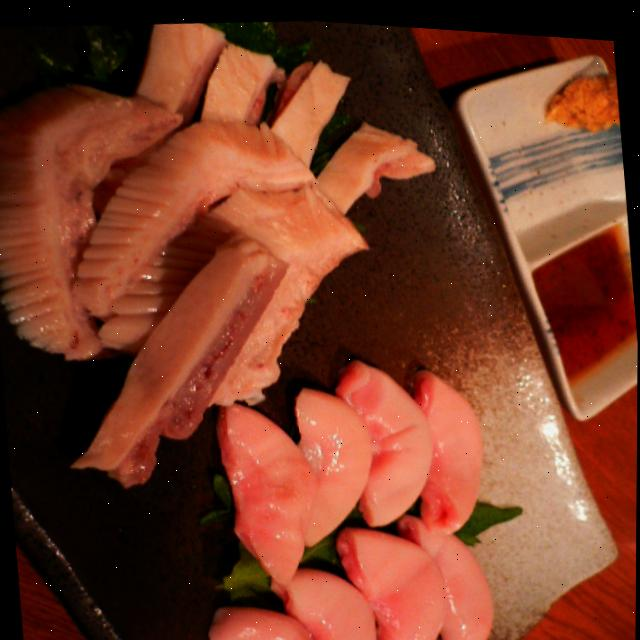刺身生食: (28, 2, 546, 634)
